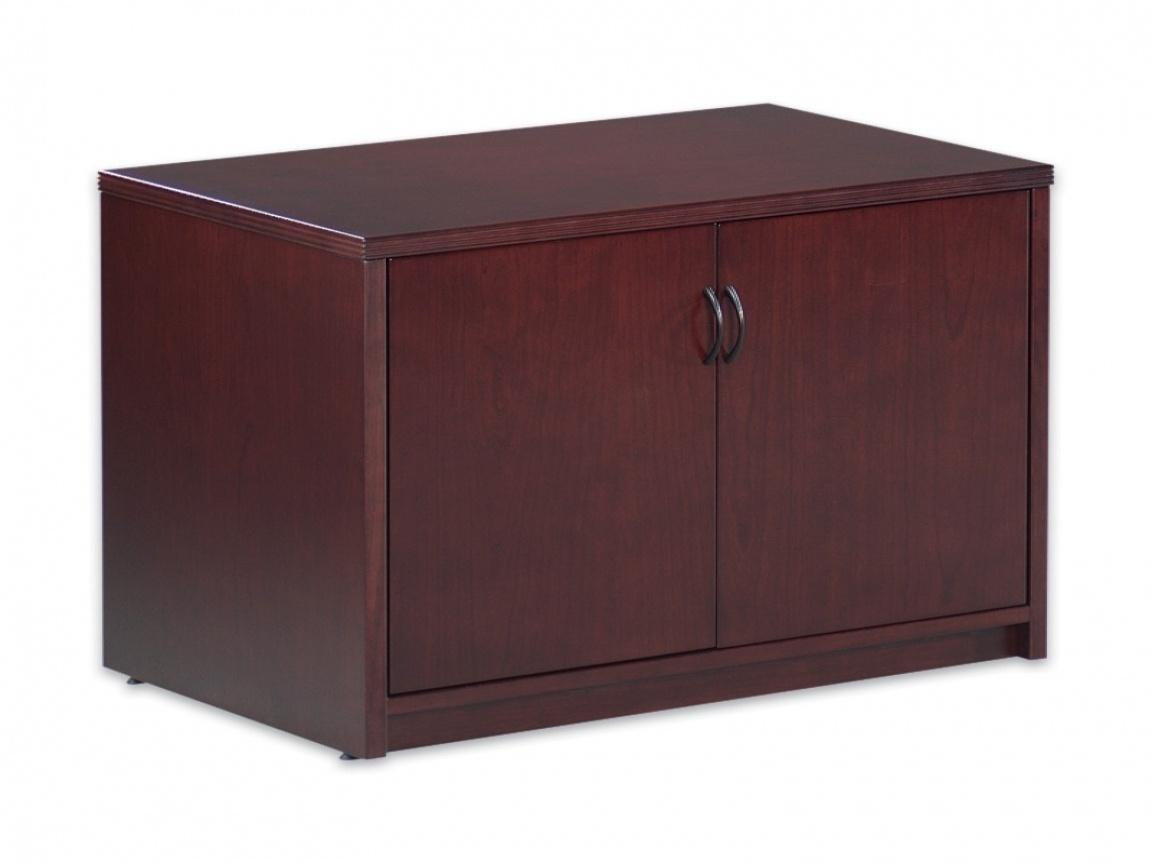cabinet_door: (391, 250, 719, 654), (712, 227, 1027, 626)
handle: (688, 283, 728, 367), (723, 285, 756, 368)
